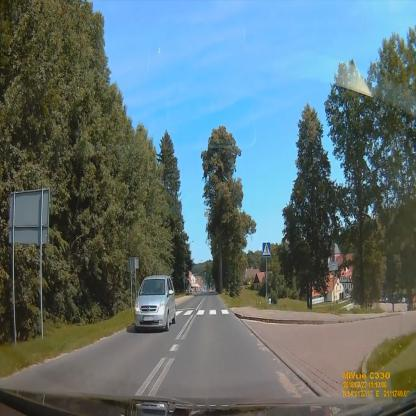cars: (134, 276, 176, 331)
